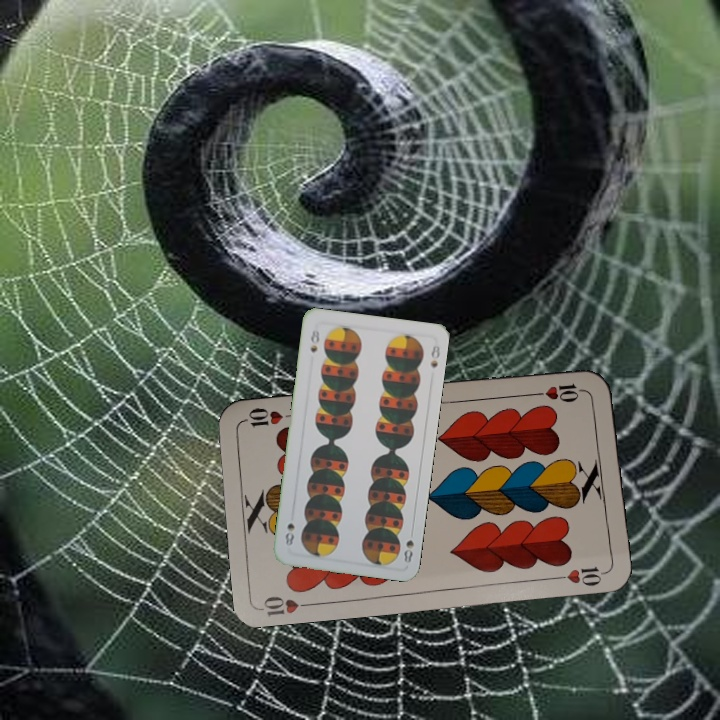H10: (258, 592, 317, 618), (529, 380, 588, 403)
S8: (400, 525, 416, 565), (306, 325, 322, 355)
